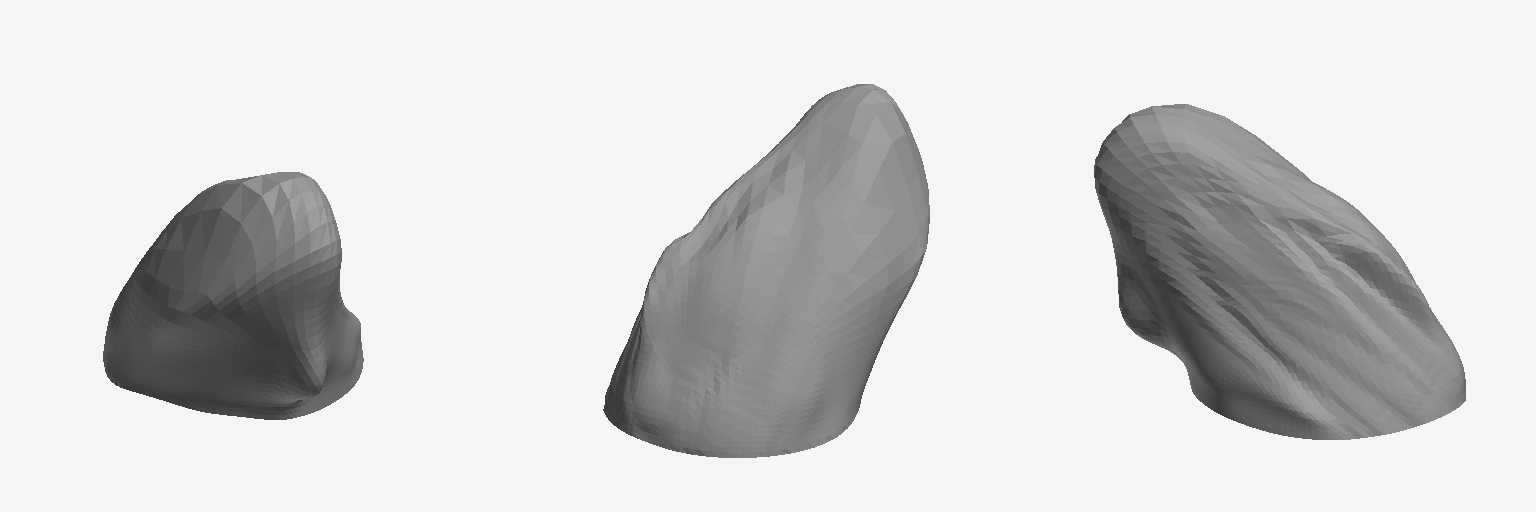
File: Rock2.obj
3 views of the same model, side by side, from view 1: azimuth 30°, elevation 25°; view 2: azimuth 150°, elevation 25°; view 3: azimuth 270°, elevation 25° (orthographic).
Visible parts, largest first — view 1: Cube.001; view 2: Cube.001; view 3: Cube.001.
Part boxes in pixels (x1,y1,x2,y2): Cube.001: (103, 172, 363, 419); Cube.001: (603, 84, 929, 457); Cube.001: (1094, 104, 1465, 439).
Bounding box in the file's own units: 3.49 × 3.66 × 4.77.